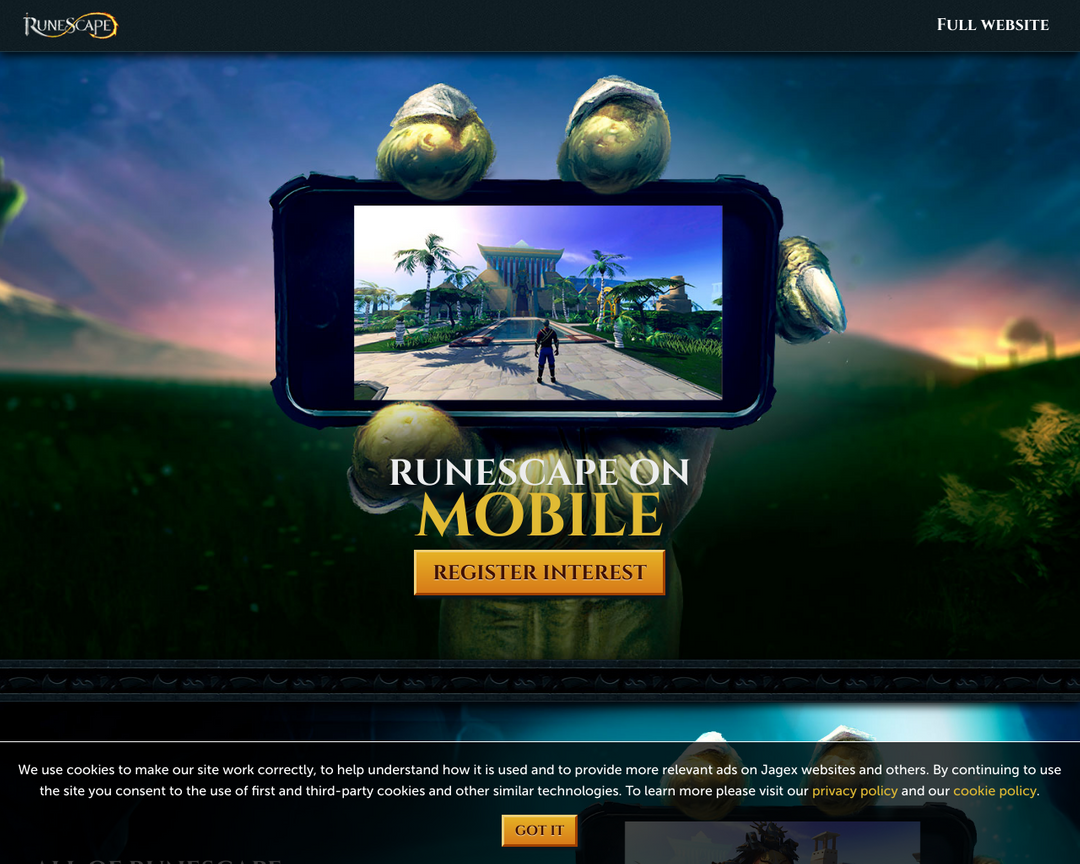Runescape: (16, 6, 120, 45)
